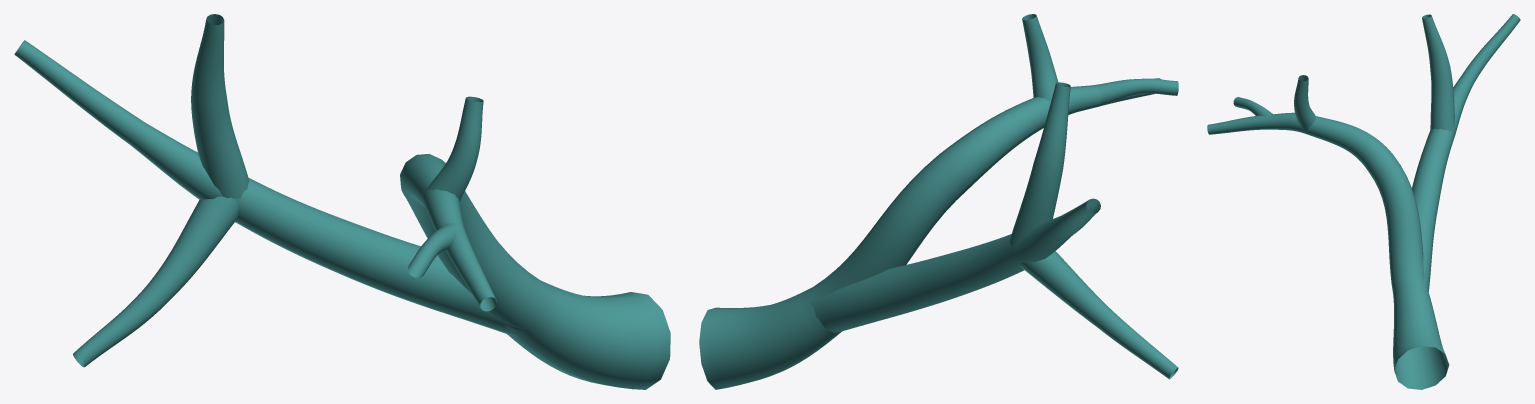
3 renders of one model, left to right at view 1: azimuth 30°, elevation 25°; view 2: azimuth 150°, elevation 25°; view 3: azimuth 270°, elevation 25°, orthographic. The views are drawn at different scales.
Parts seen in each view (by area): view 1: 右肺后段支气管（第2段）; view 2: 右肺后段支气管（第2段）; view 3: 右肺后段支气管（第2段）.
Boxes of the visible parts, left/top/right/bottom form: 右肺后段支气管（第2段）: left=14, top=14, right=670, bottom=389; 右肺后段支气管（第2段）: left=699, top=14, right=1178, bottom=389; 右肺后段支气管（第2段）: left=1207, top=14, right=1520, bottom=389.
Size of the model in its own units: 0.107 by 0.0838 by 0.0908.
